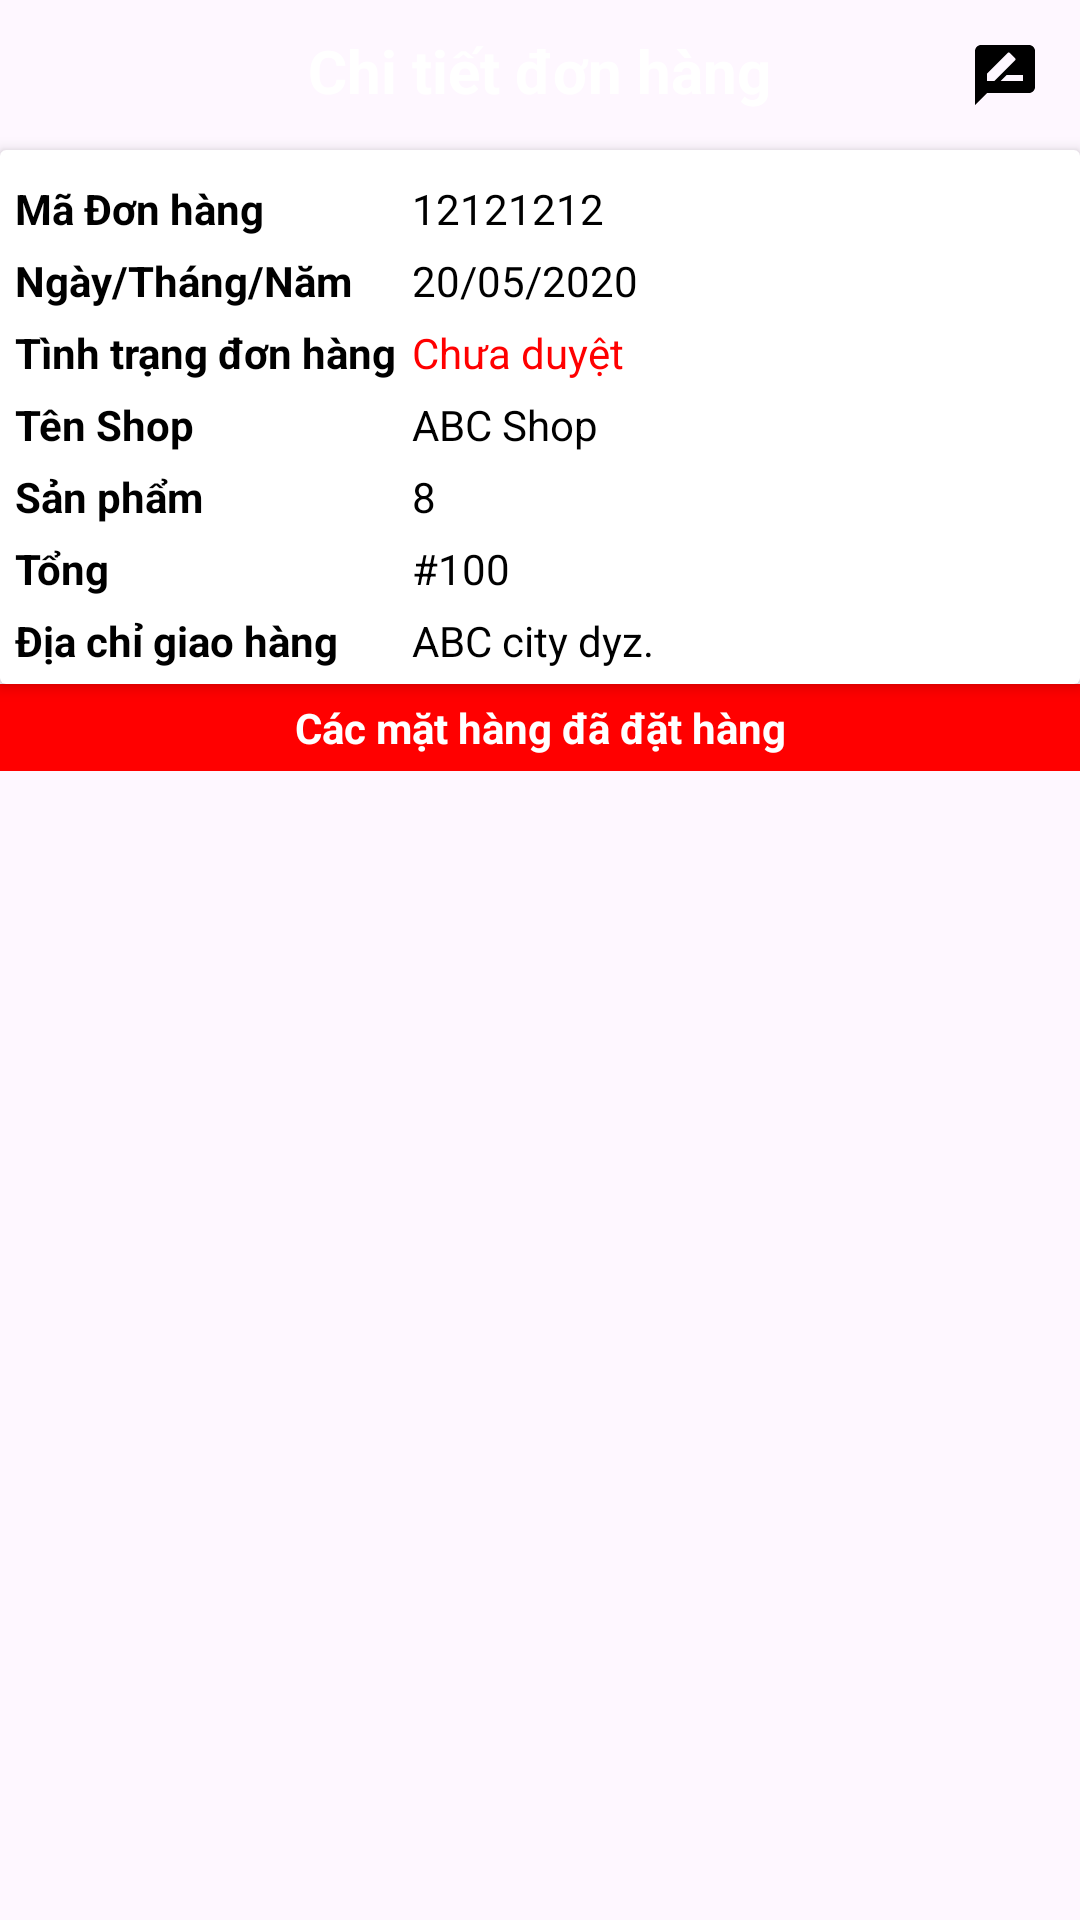

Where icons sit on this 1080px×1920px app screen, as (x1, y1, x2, y2):
rate: (975, 45, 1035, 105)
